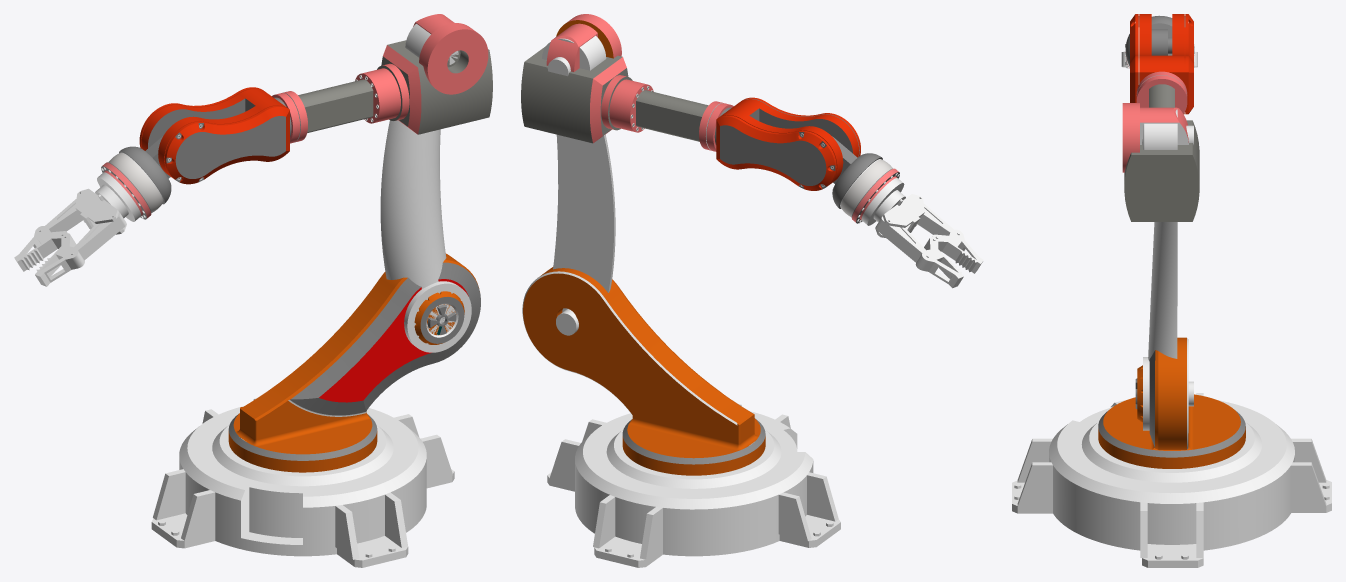
The model's file is robotic arm final.fbx.
3 renders of one model, left to right at view 1: azimuth 30°, elevation 25°; view 2: azimuth 150°, elevation 25°; view 3: azimuth 270°, elevation 25°, orthographic. The views are drawn at different scales.
Parts seen in each view (by area): view 1: mesh30; view 2: mesh30; view 3: mesh30.
Part boxes in pixels (x1=…): mesh30: x1=14, y1=14, x2=492, y2=567; mesh30: x1=521, y1=14, x2=983, y2=567; mesh30: x1=1012, y1=14, x2=1331, y2=567.
Size of the model in its own units: 63.49 by 61.52 by 38.99.
